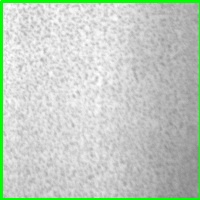pitted_surface: (1, 1, 200, 199)
